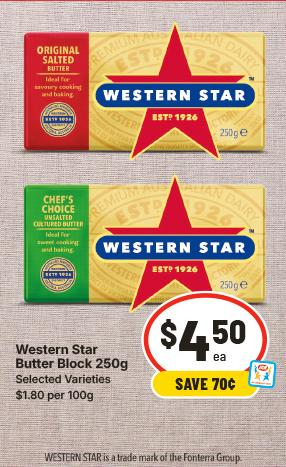description_block: (7, 333, 130, 386)
price_main: (136, 294, 273, 370)
product_image_block: (17, 23, 270, 309)
promo_text_block: (142, 374, 264, 404)
unit_price_block: (8, 382, 103, 406)
